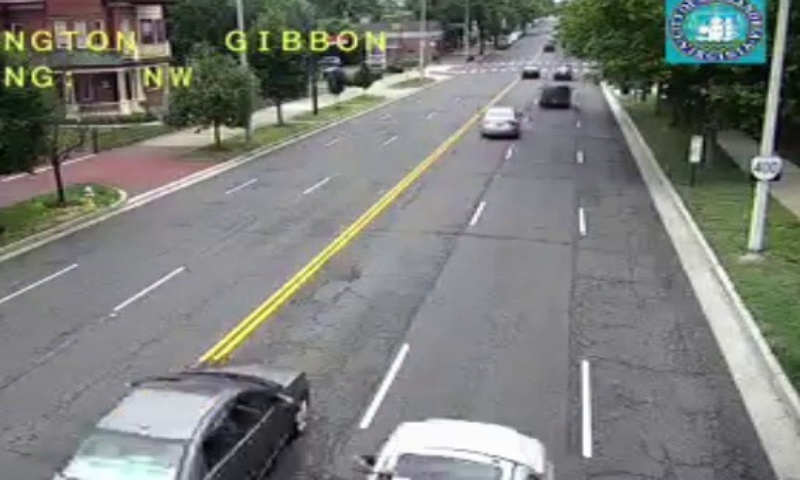car: (52, 364, 309, 480), (479, 106, 519, 137), (540, 85, 572, 109)
